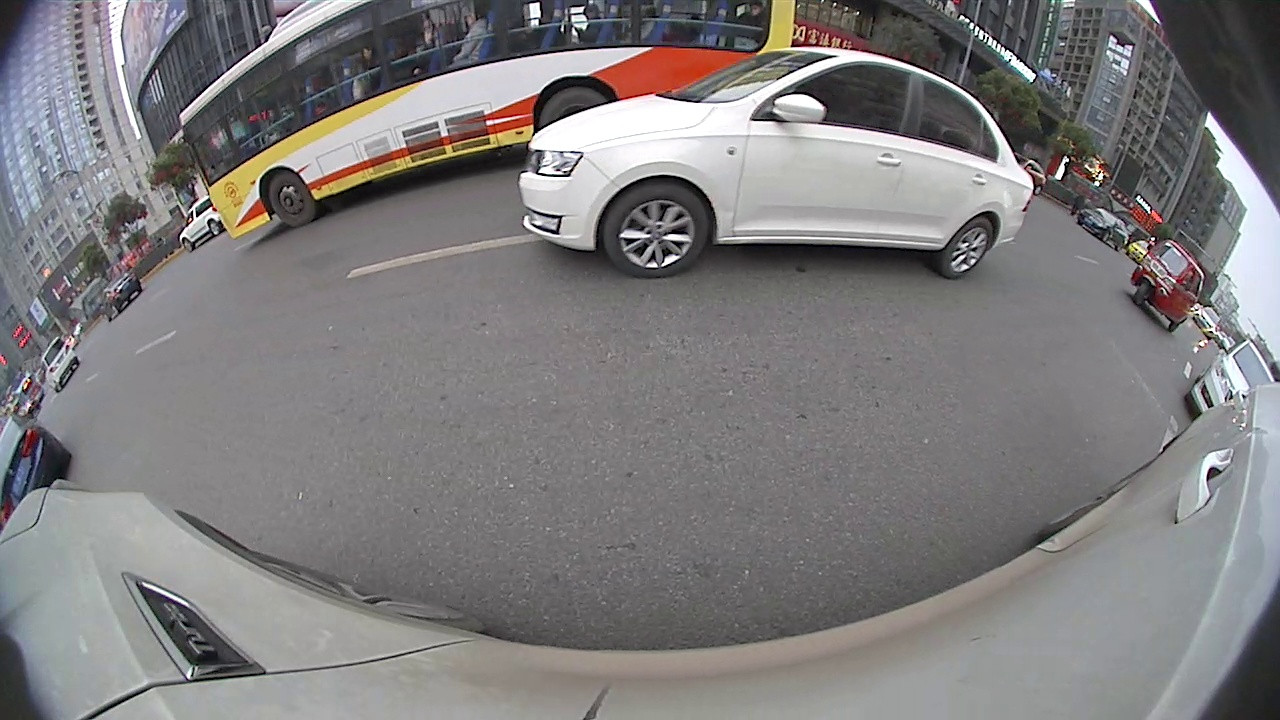bus: (173, 1, 801, 243)
car: (517, 45, 1038, 279), (1, 413, 73, 526), (1185, 337, 1279, 418), (178, 196, 228, 253), (38, 335, 83, 393), (98, 272, 144, 321)
front: (605, 182, 712, 280), (266, 168, 316, 230), (181, 238, 196, 256)
rear: (940, 214, 995, 283), (536, 85, 610, 132), (207, 218, 223, 238)
rider: (1129, 237, 1207, 332)
